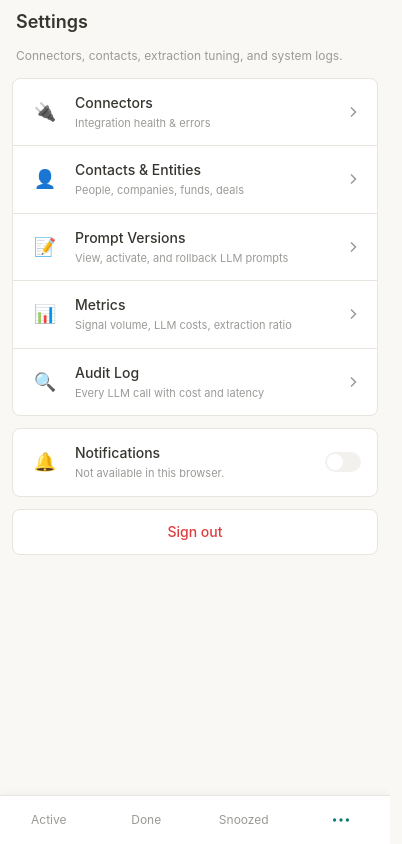
Scenario: Settings › navigates to Audit Log page
Click the button "Audit Log" at (195, 383), box [13,349,377,416]
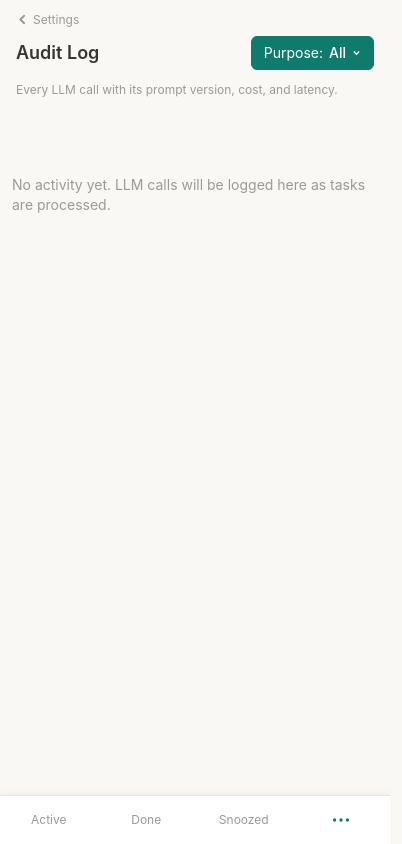
Result: the heading "Audit Log" is shown at [16,38,99,66]
